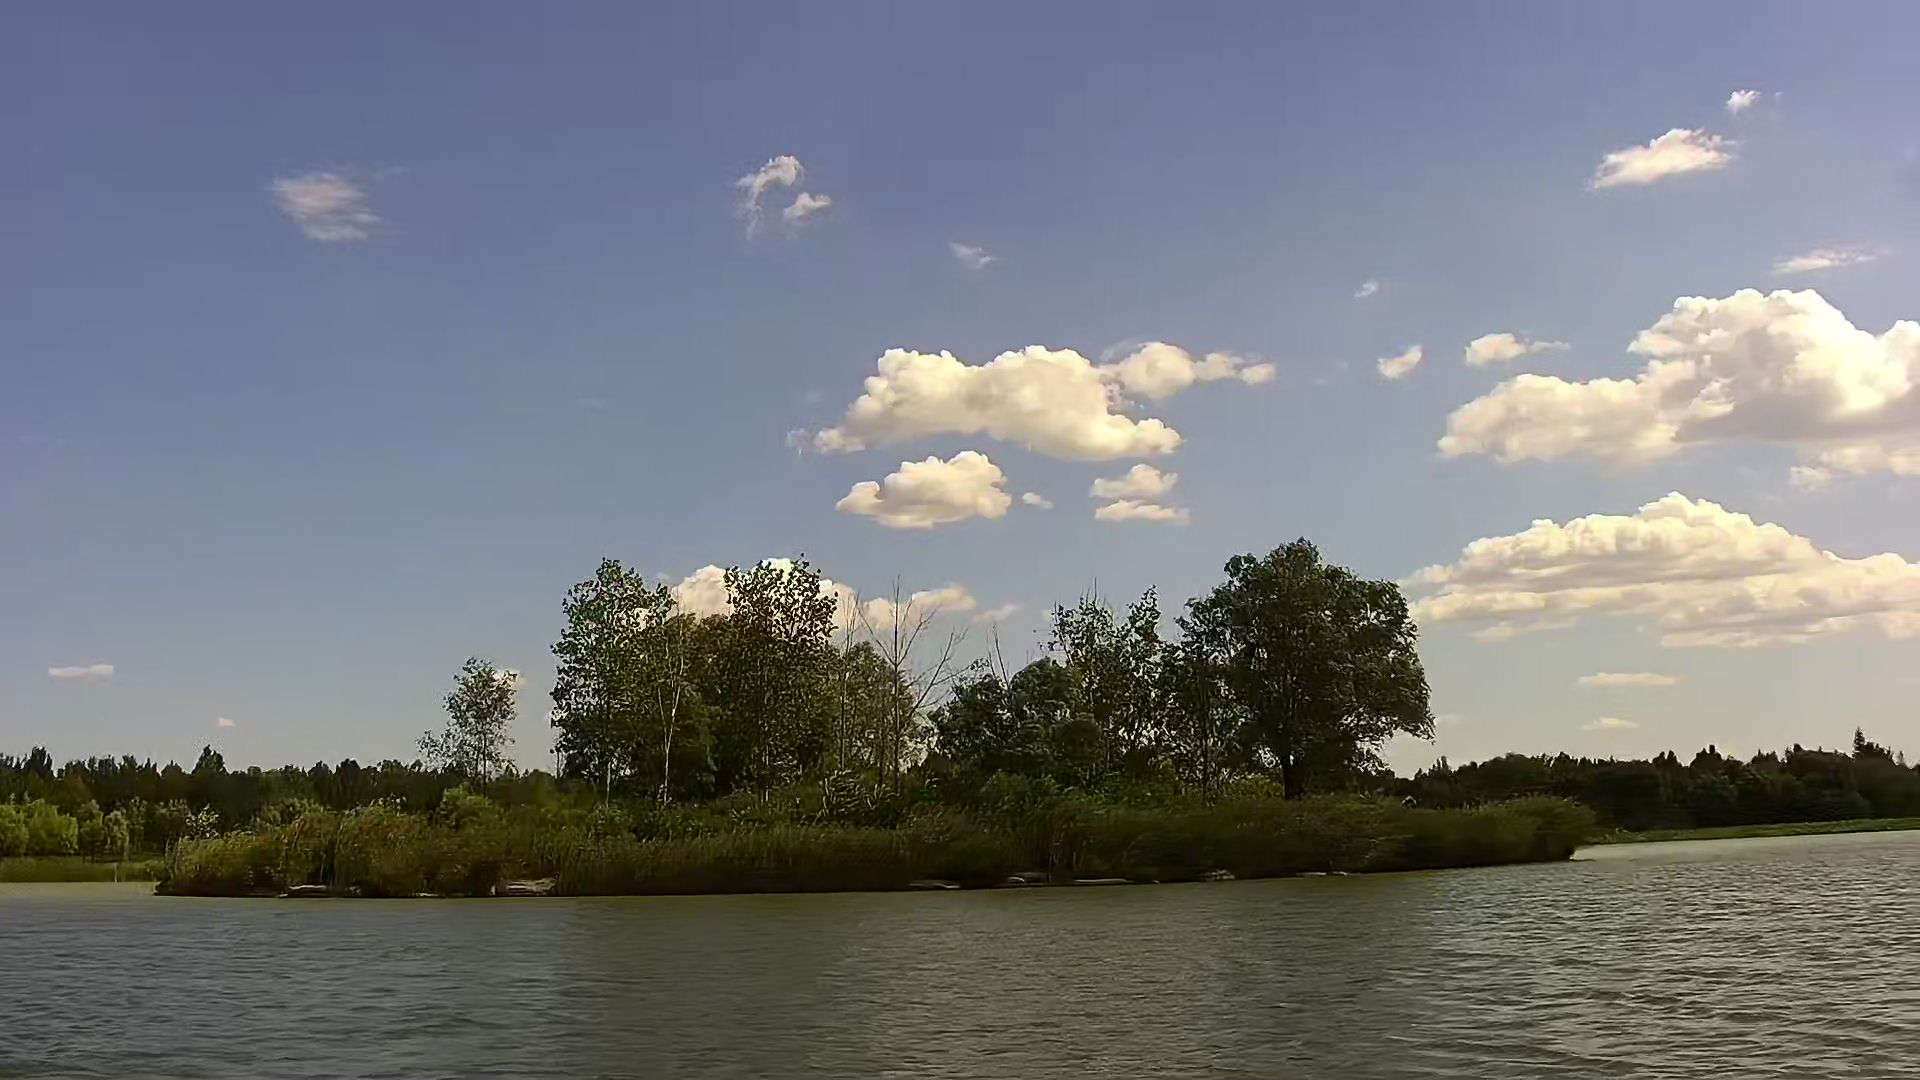rock: (497, 872, 553, 889)
